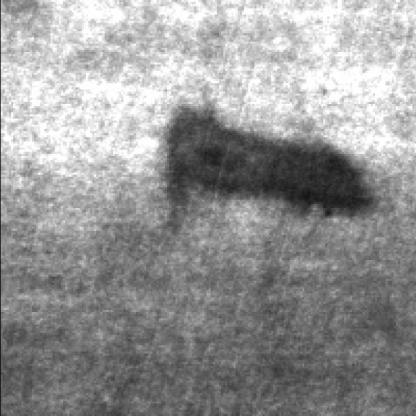patches: (169, 106, 380, 233)
